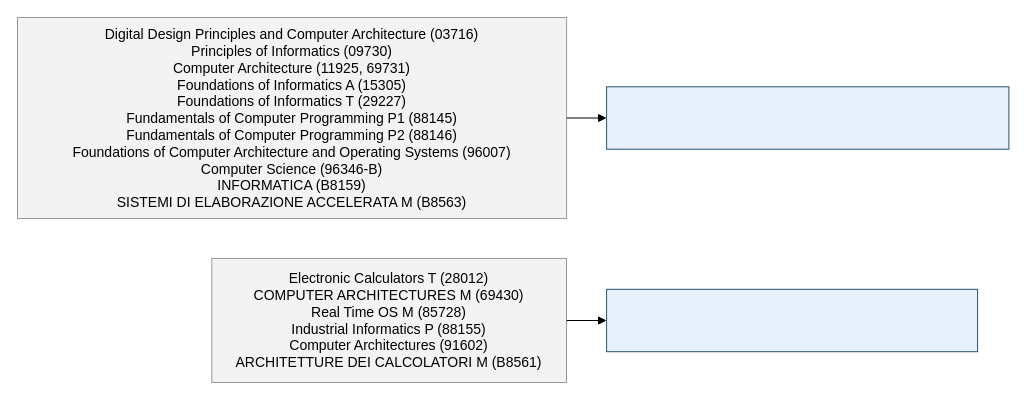
Image size: 1027x400. Some labels were removed from this diagram. The centre of each missing label's shape, as x and y in pixels:
"Advanced Computer Architecture Extensions 5 ECTS" goes at point 792,320.
"Computer Architecture Extensions Fundamentals 4 ECTS" goes at point 807,117.
